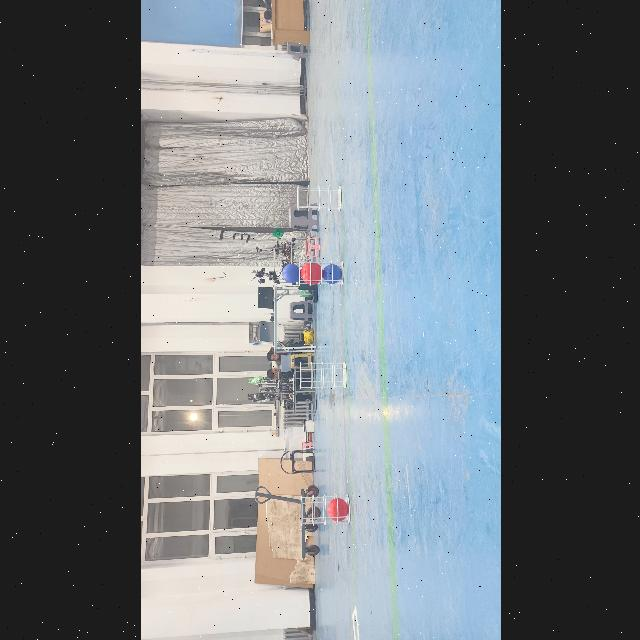B: (321, 264, 341, 284), (281, 264, 299, 284)
R: (328, 496, 348, 522), (300, 261, 320, 285)
S: (300, 487, 352, 529), (298, 356, 348, 394), (294, 183, 344, 214), (295, 258, 343, 290)
